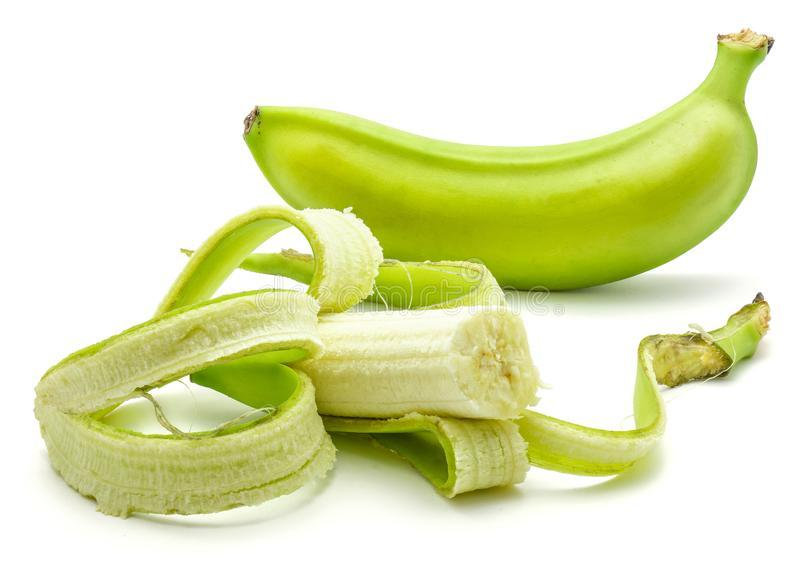Banana Ripe: (46, 204, 764, 542), (195, 22, 798, 284)
